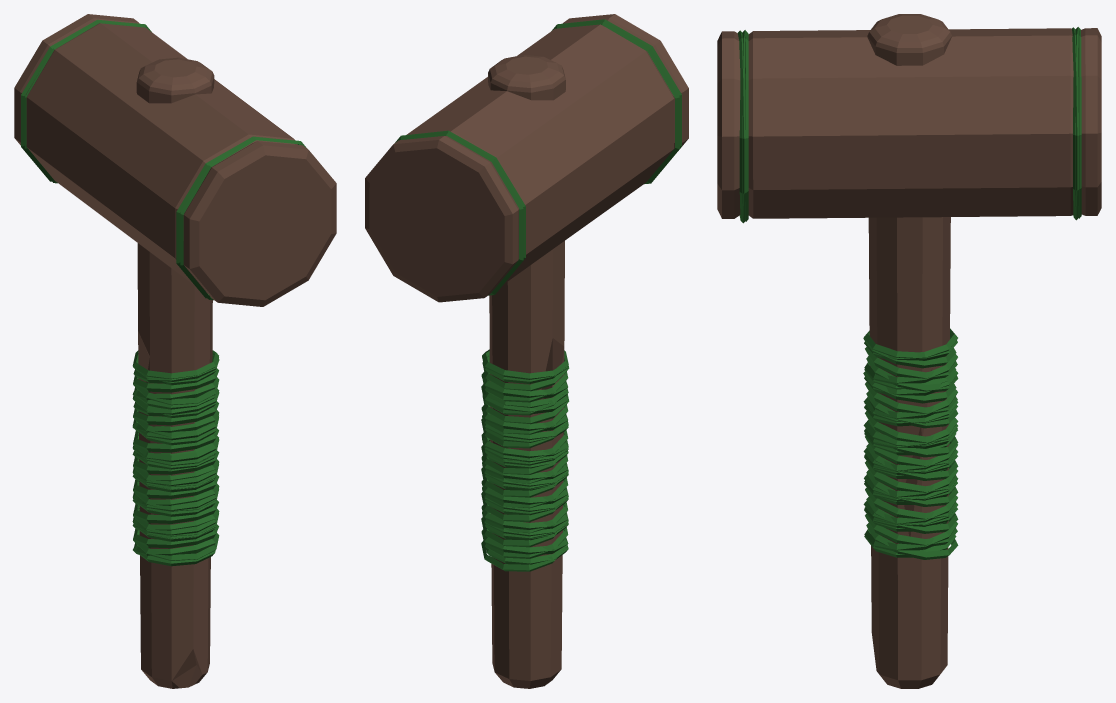
Rendered from Hammer.fbx.
The picture shows the model from 3 angles, left to right: view 1: azimuth 30°, elevation 25°; view 2: azimuth 150°, elevation 25°; view 3: azimuth 270°, elevation 25°; orthographic projection. The views are drawn at different scales.
Visible parts, largest first — view 1: hummer; view 2: hummer; view 3: hummer.
Boxes of the visible parts, x1,y1,x2,y2 form: hummer: (14, 14, 336, 688); hummer: (365, 14, 688, 688); hummer: (717, 14, 1101, 688).
Size of the model in its own units: 281 by 1074 by 573.
